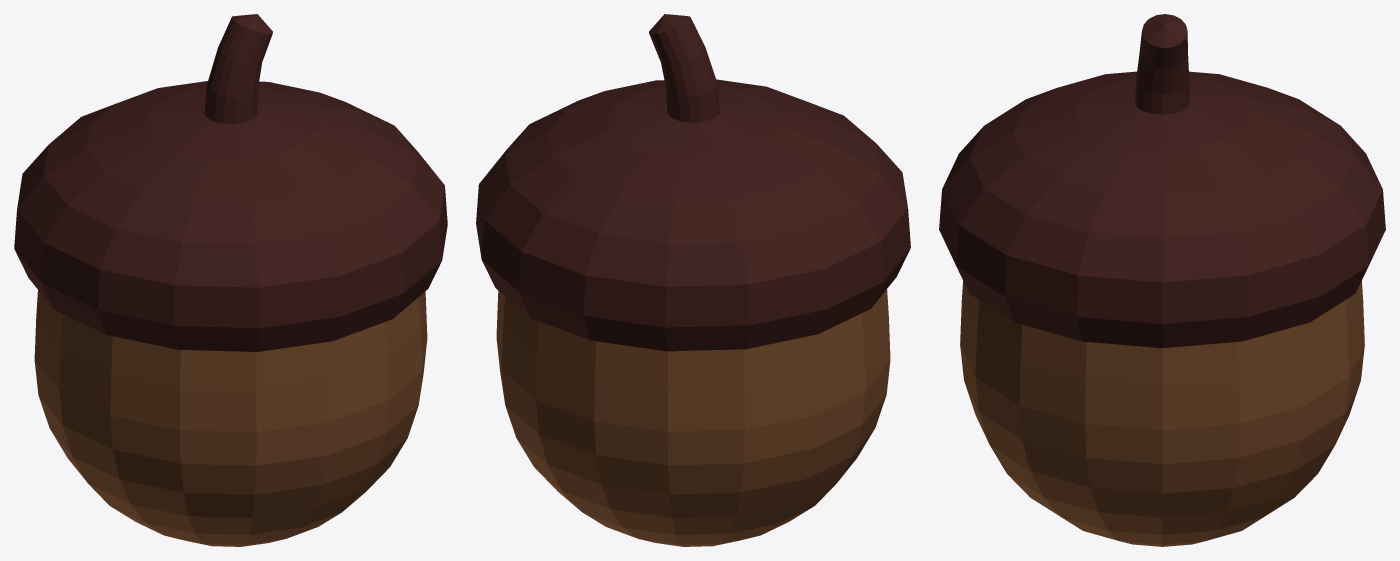
File: Nuss.fbx
3 renders of one model, left to right at view 1: azimuth 30°, elevation 25°; view 2: azimuth 150°, elevation 25°; view 3: azimuth 270°, elevation 25°, orthographic. The views are drawn at different scales.
Parts seen in each view (by area): view 1: Nut; view 2: Nut; view 3: Nut.
Boxes of the visible parts, <box> form: Nut: <box>14,14,447,546</box>; Nut: <box>476,14,910,546</box>; Nut: <box>939,14,1385,546</box>.
Bounding box in the file's own units: 221 × 287 × 221.
